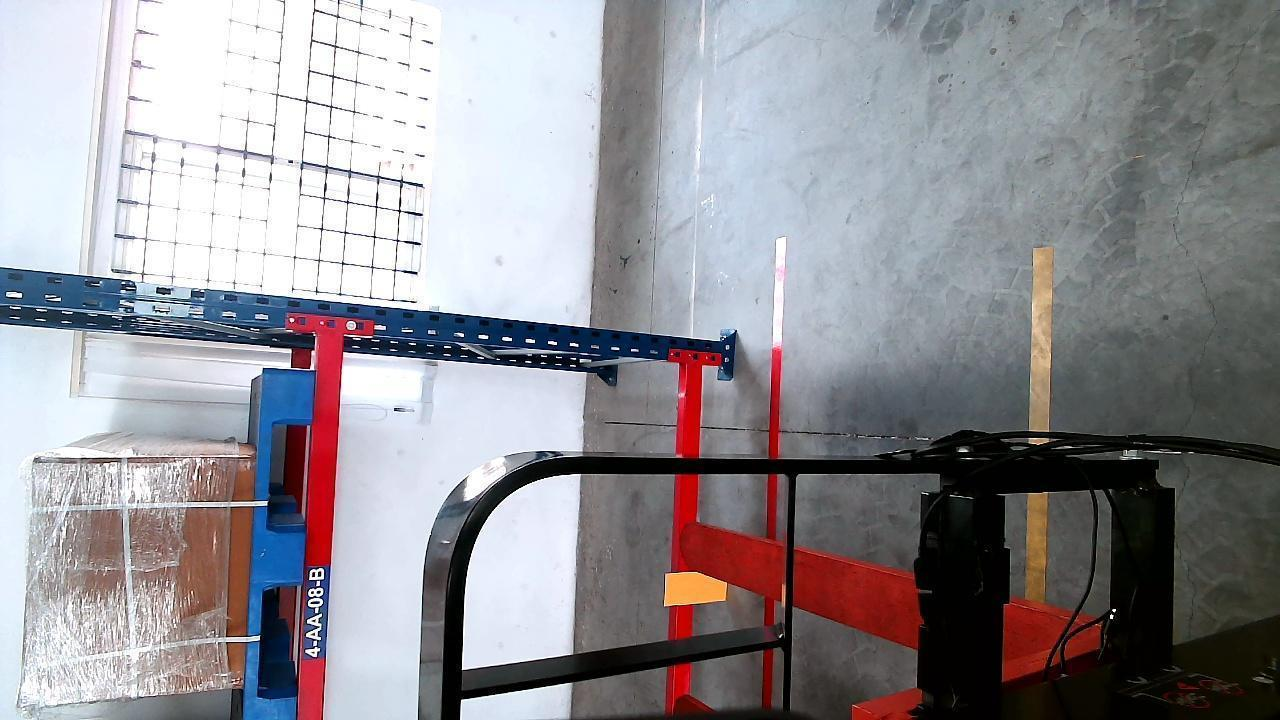red_line: (759, 260, 788, 694)
yellow_line: (1024, 245, 1052, 610)
